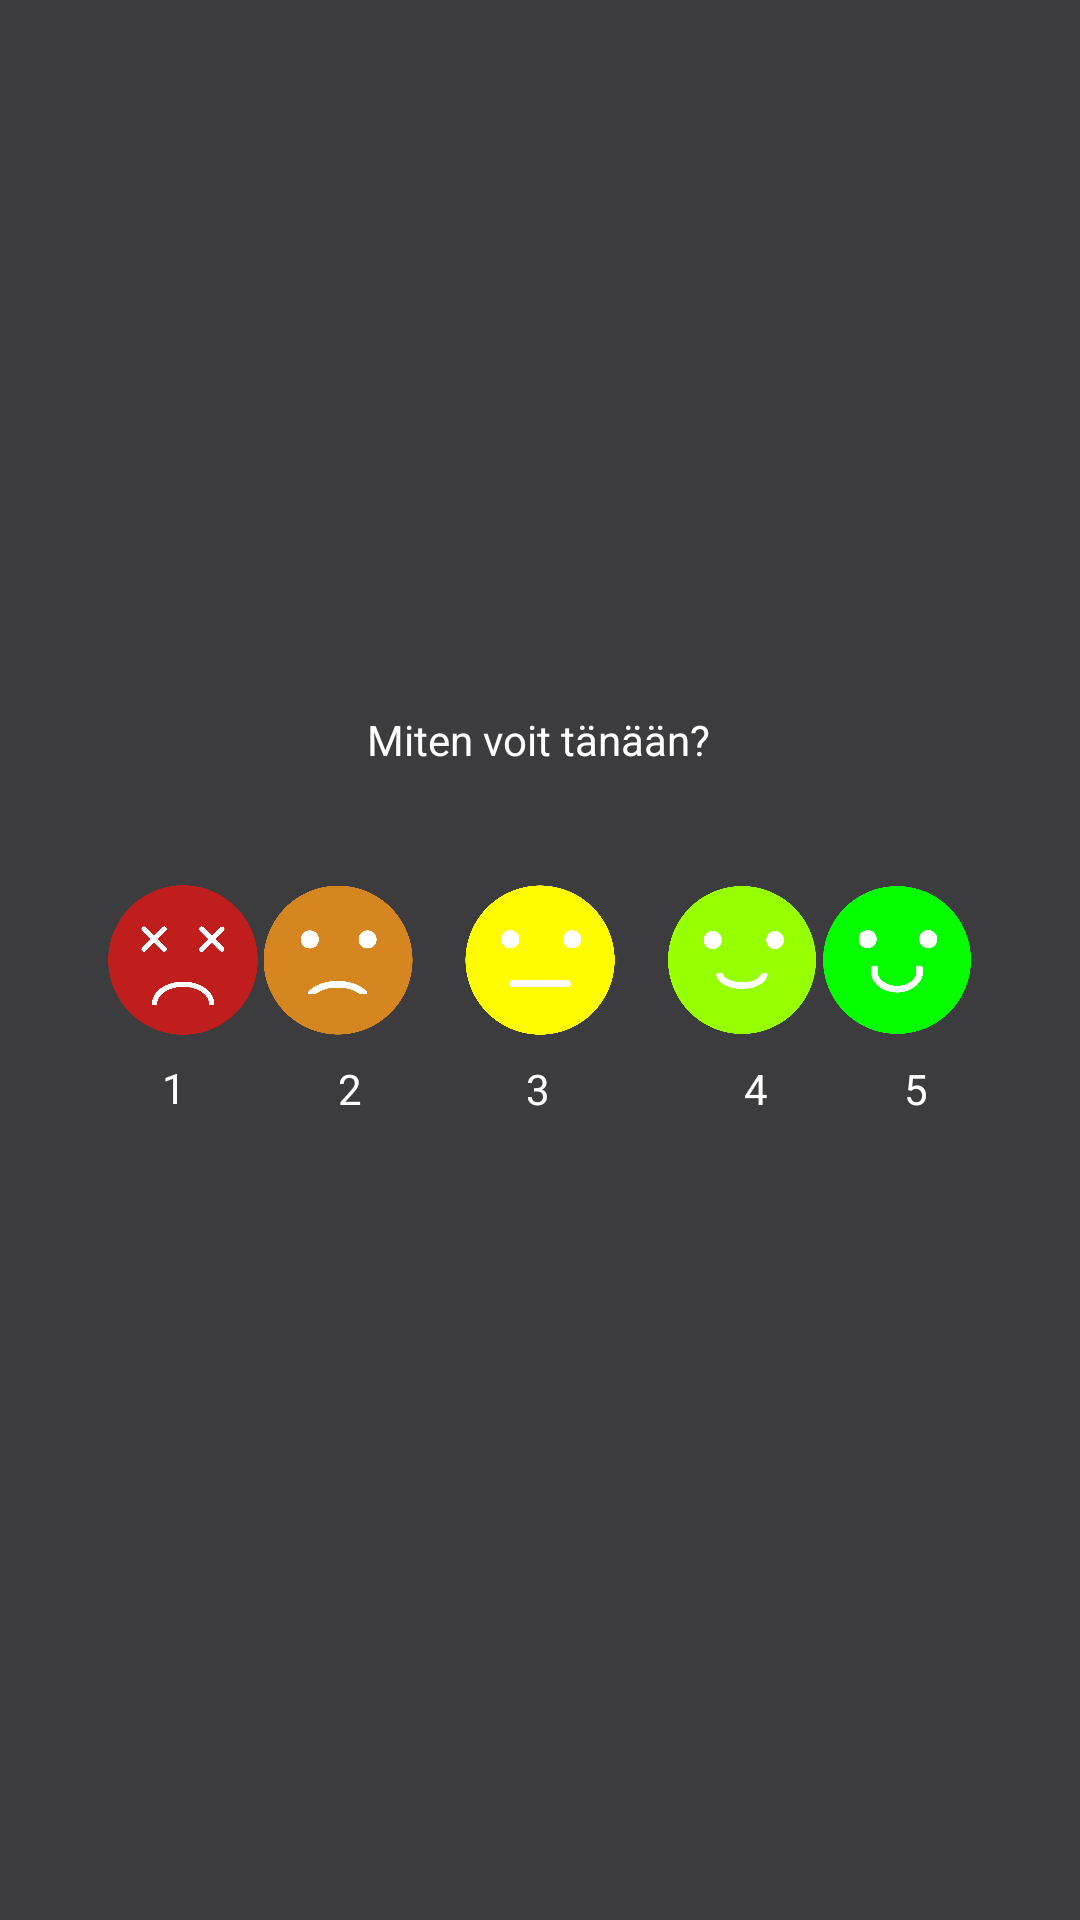

Icon bounding boxes for this 1080x1920 phone screenshot, format bbox(x1, y1, x2, y2):
mood 1: bbox(108, 885, 258, 1035)
mood 2: bbox(264, 886, 413, 1035)
mood 3: bbox(465, 885, 615, 1035)
mood 4: bbox(668, 886, 816, 1034)
mood 5: bbox(823, 886, 971, 1034)
